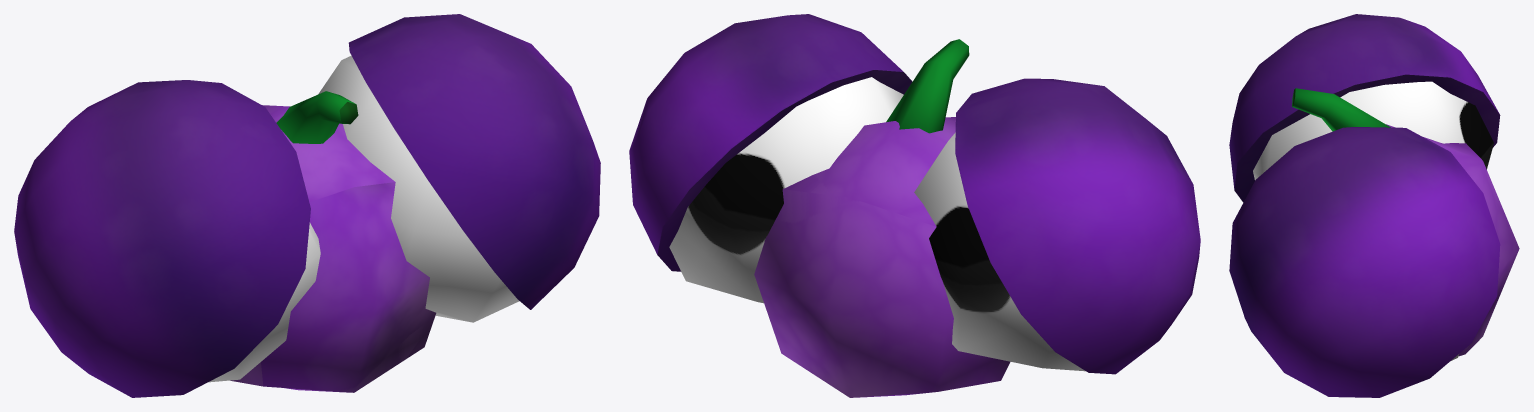
The model's file is baby_bomberry.glb.
The picture shows the model from 3 angles, left to right: view 1: azimuth 30°, elevation 25°; view 2: azimuth 150°, elevation 25°; view 3: azimuth 270°, elevation 25°; orthographic projection. The views are drawn at different scales.
Parts seen in each view (by area): view 1: Cylinder; view 2: Cylinder; view 3: Cylinder.
Boxes of the visible parts, x1=… form: Cylinder: x1=14, y1=14, x2=600, y2=397; Cylinder: x1=629, y1=14, x2=1200, y2=397; Cylinder: x1=1229, y1=14, x2=1519, y2=397.
Size of the model in its own units: 0.3317 by 0.1973 by 0.1794.
Materials: 1 (1 with a texture image).
